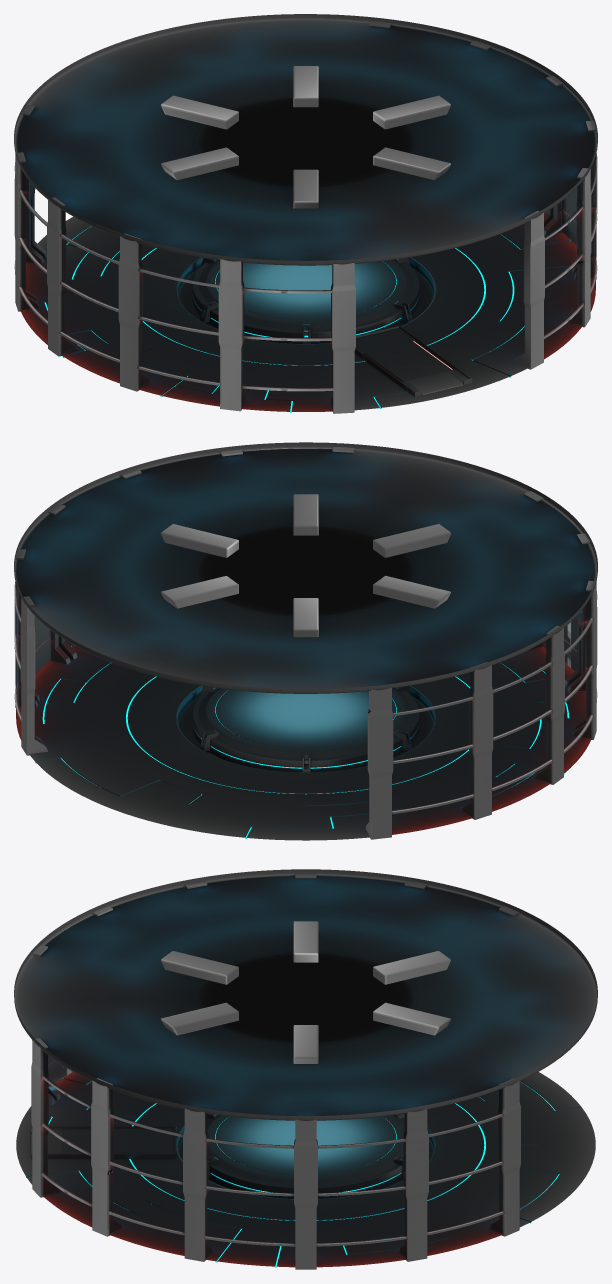
3 views of the same model, one above another, from view 1: azimuth 30°, elevation 25°; view 2: azimuth 150°, elevation 25°; view 3: azimuth 270°, elevation 25° (orthographic).
Visible parts, largest first — view 1: Black_Ground, Black_Wall, Black_LightUpper, Emissive_Cyan; view 2: Black_Ground, Black_Wall, Black_LightUpper, Emissive_Cyan; view 3: Black_Ground, Black_Wall, Black_LightUpper, Emissive_Cyan.
Boxes of the visible parts, <box> form: Black_Ground: <box>14,14,597,411</box>; Black_Wall: <box>14,21,597,413</box>; Black_LightUpper: <box>161,66,450,208</box>; Emissive_Cyan: <box>44,226,570,412</box>; Black_Ground: <box>14,442,597,840</box>; Black_Wall: <box>14,446,597,839</box>; Black_LightUpper: <box>161,494,450,637</box>; Emissive_Cyan: <box>35,646,569,838</box>; Black_Ground: <box>14,869,597,1267</box>; Black_Wall: <box>31,873,520,1269</box>; Black_LightUpper: <box>161,921,450,1063</box>; Emissive_Cyan: <box>26,1078,559,1267</box>.
Size of the model in its own units: 39.76 by 12.38 by 39.74.
6 materials, 4 textured.
